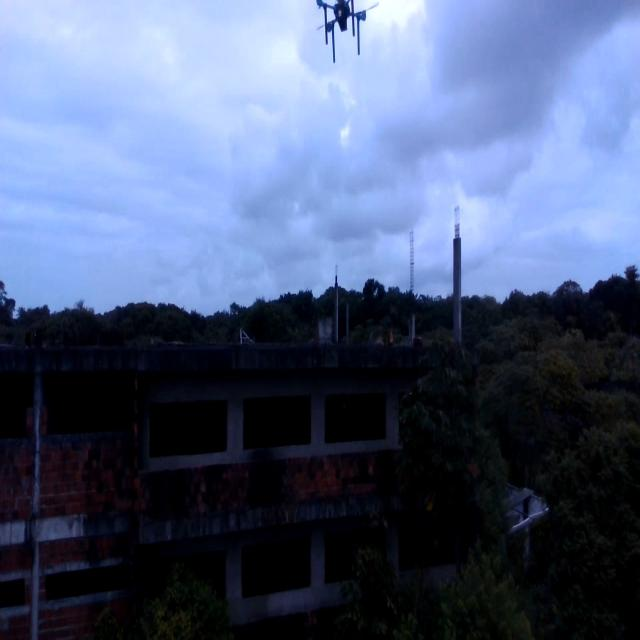-uav-: (307, 0, 384, 70)
